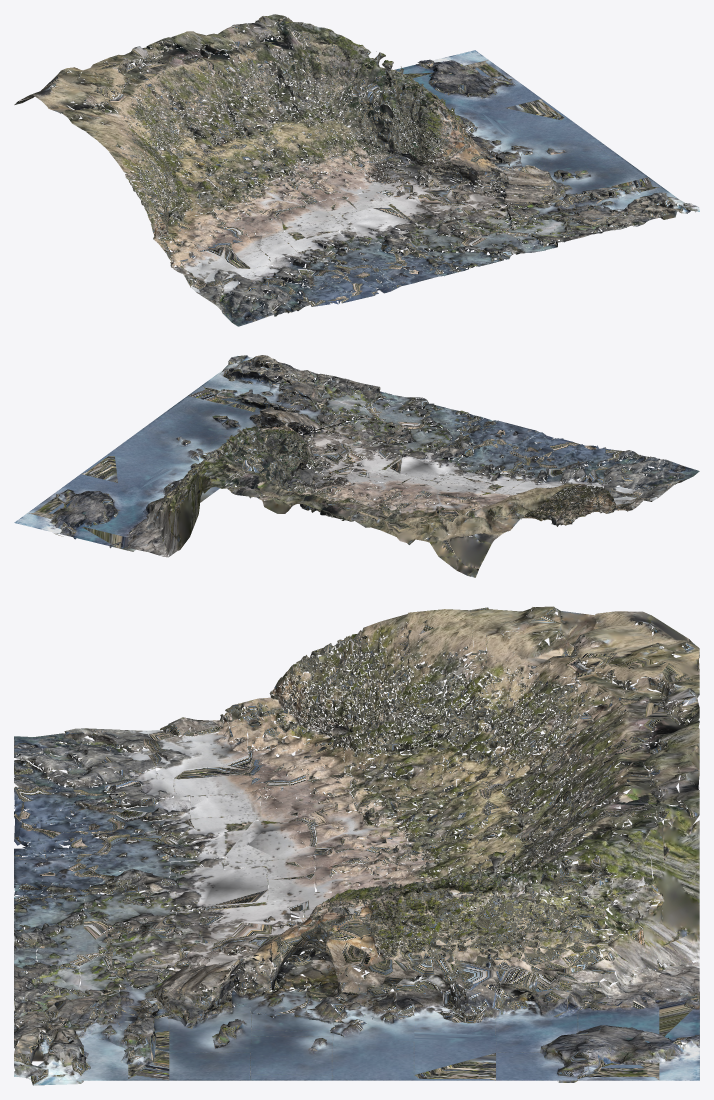
The model's file is umanose.glb.
3 views of the same model, one above another, from view 1: azimuth 30°, elevation 25°; view 2: azimuth 150°, elevation 25°; view 3: azimuth 270°, elevation 25° (orthographic). The views are drawn at different scales.
Visible parts, largest first — view 1: Umanose coastal rock 0, Umanose coastal rock 1; view 2: Umanose coastal rock 0, Umanose coastal rock 1; view 3: Umanose coastal rock 0, Umanose coastal rock 1.
Boxes of the visible parts, left/top/right/bottom form: Umanose coastal rock 0: left=14, top=17, right=690, bottom=326; Umanose coastal rock 1: left=18, top=14, right=699, bottom=317; Umanose coastal rock 0: left=51, top=355, right=699, bottom=577; Umanose coastal rock 1: left=14, top=355, right=683, bottom=568; Umanose coastal rock 0: left=14, top=608, right=699, bottom=1082; Umanose coastal rock 1: left=14, top=606, right=699, bottom=1085.
Bounding box in the file's own units: 155 × 29.19 × 130.
Materials: 2 (2 with a texture image).
